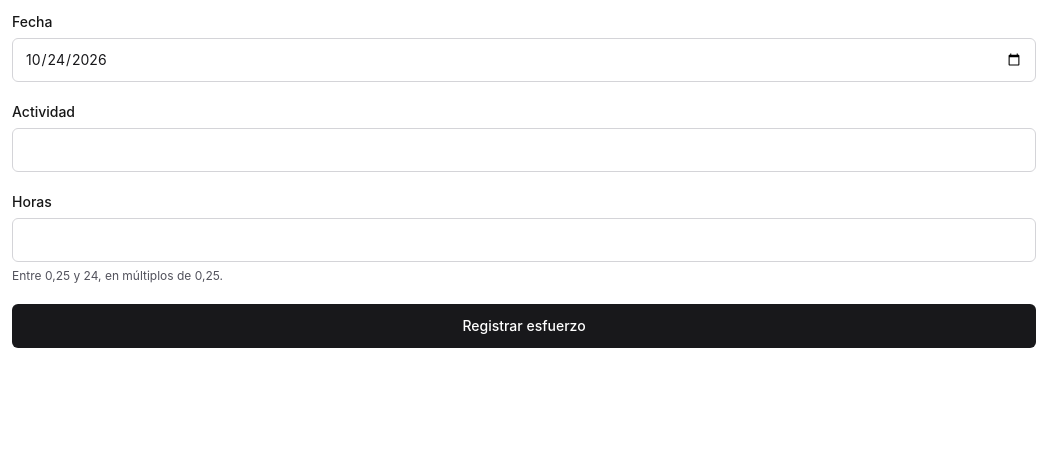
Test case: 006/US1 - Registrar el esfuerzo trabajado › Caso de error — fecha de mañana
Type "2026-10-25" into the date field labelled "Fecha" at (524, 60), box [12,38,1036,82]
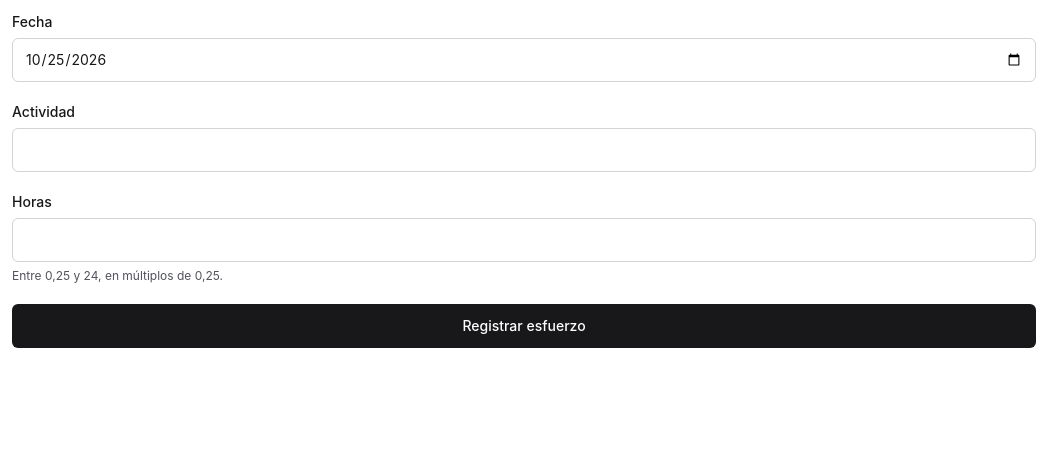
Type "Implementación del formulario de alta" into the field labelled "Actividad" at (524, 150), box [12,128,1036,172]
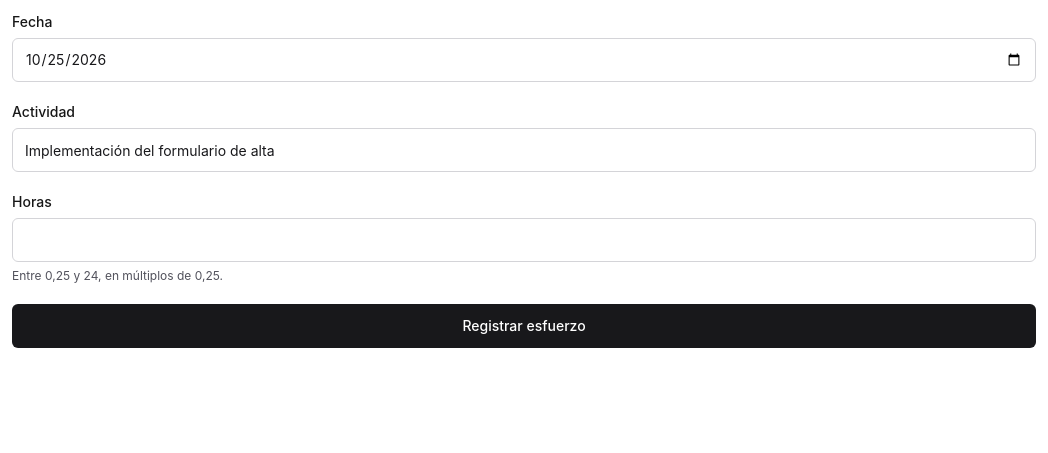
Type "6.5" into the number field labelled "Horas" at (524, 240), box [12,218,1036,262]
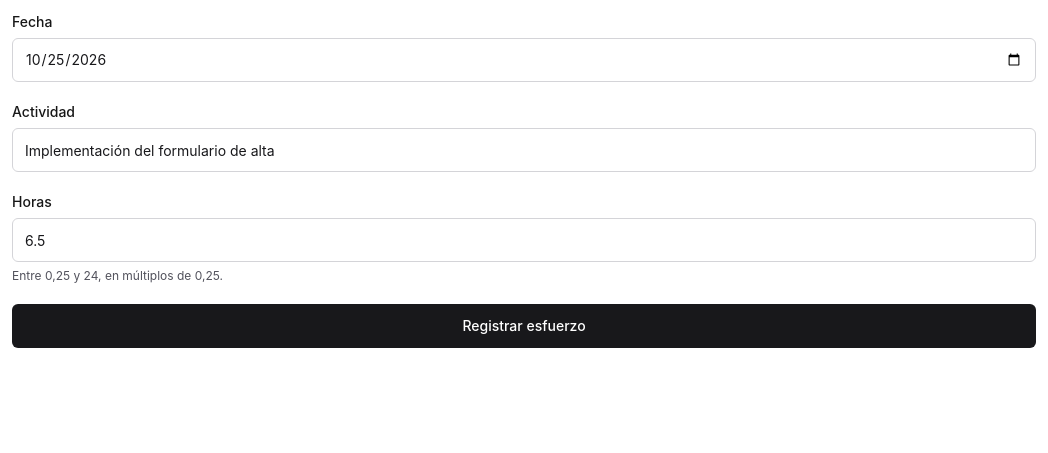
Click the button "Registrar esfuerzo" at (524, 326), box [12,304,1036,348]
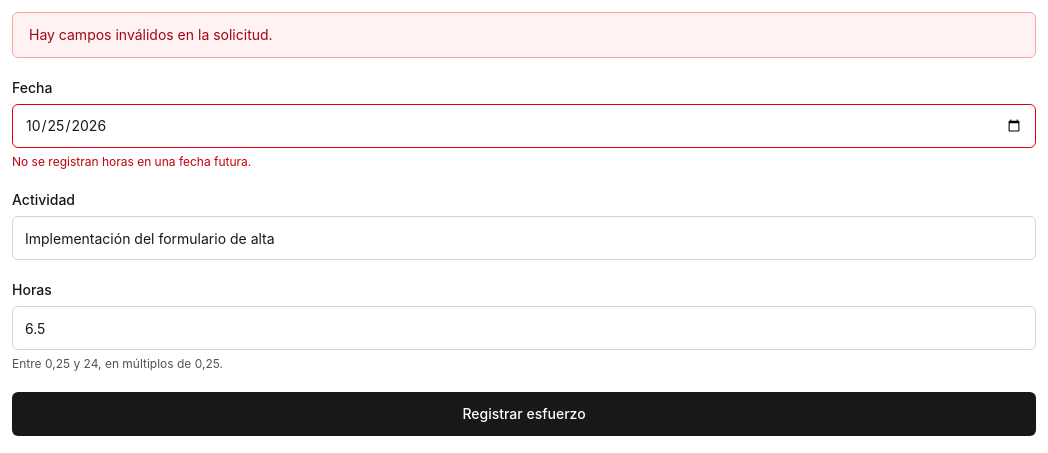
Now the text "No se registran horas en una fecha futura." is shown, box [12,154,251,169]
